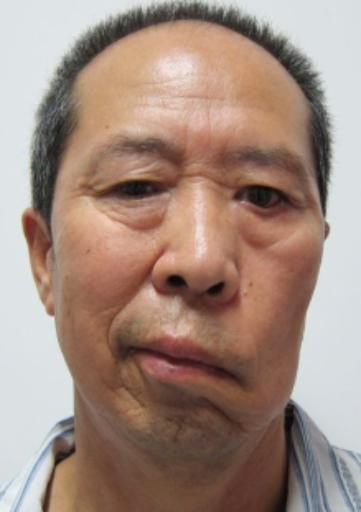left_eye: (233, 185, 299, 217)
left_lip_corner: (223, 364, 247, 391)
right_eye: (93, 178, 171, 209)
right_lip_corner: (125, 337, 148, 365)
